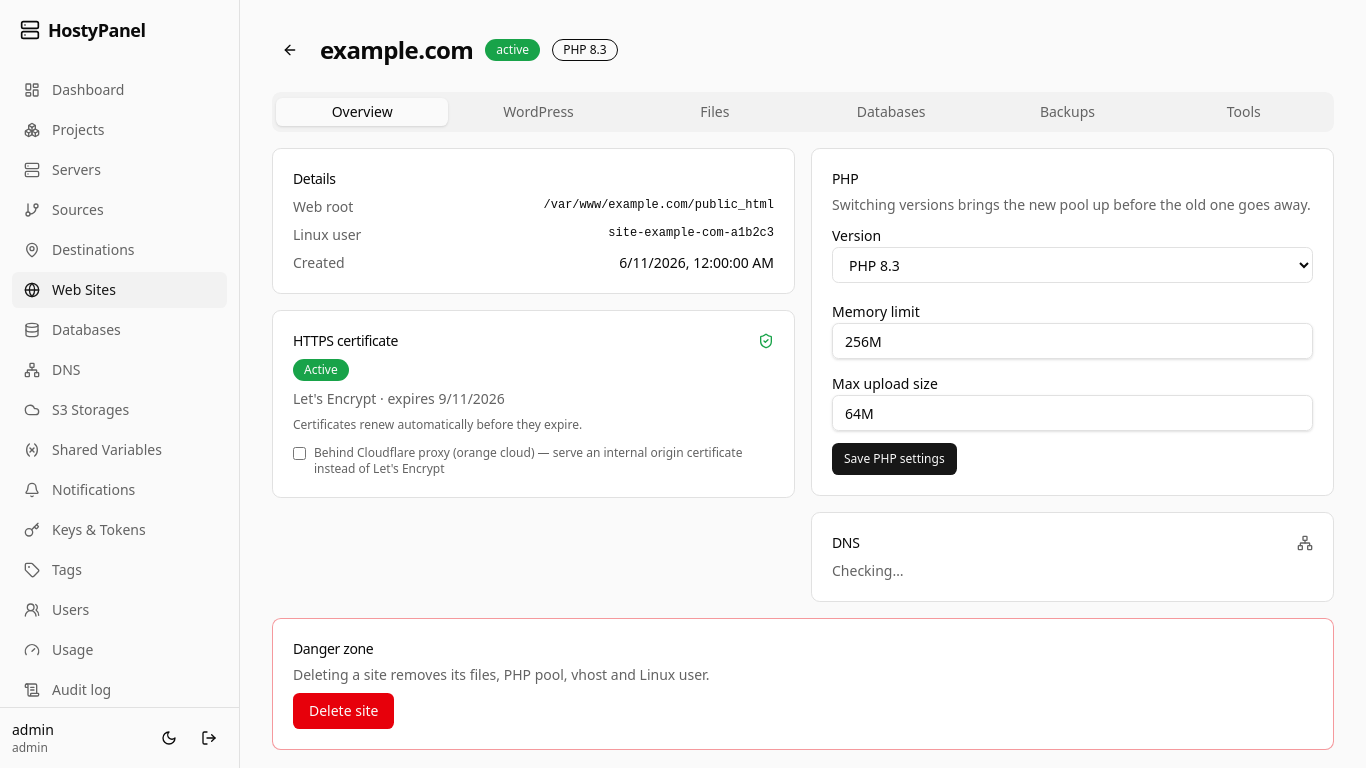
it: SiteBackupsTab › lists site backups and starts a backup from the site detail tab
This screenshot has width=1366, height=768.
Click the tab "Backups" at (1067, 112), box 981,98 -> 1154,126
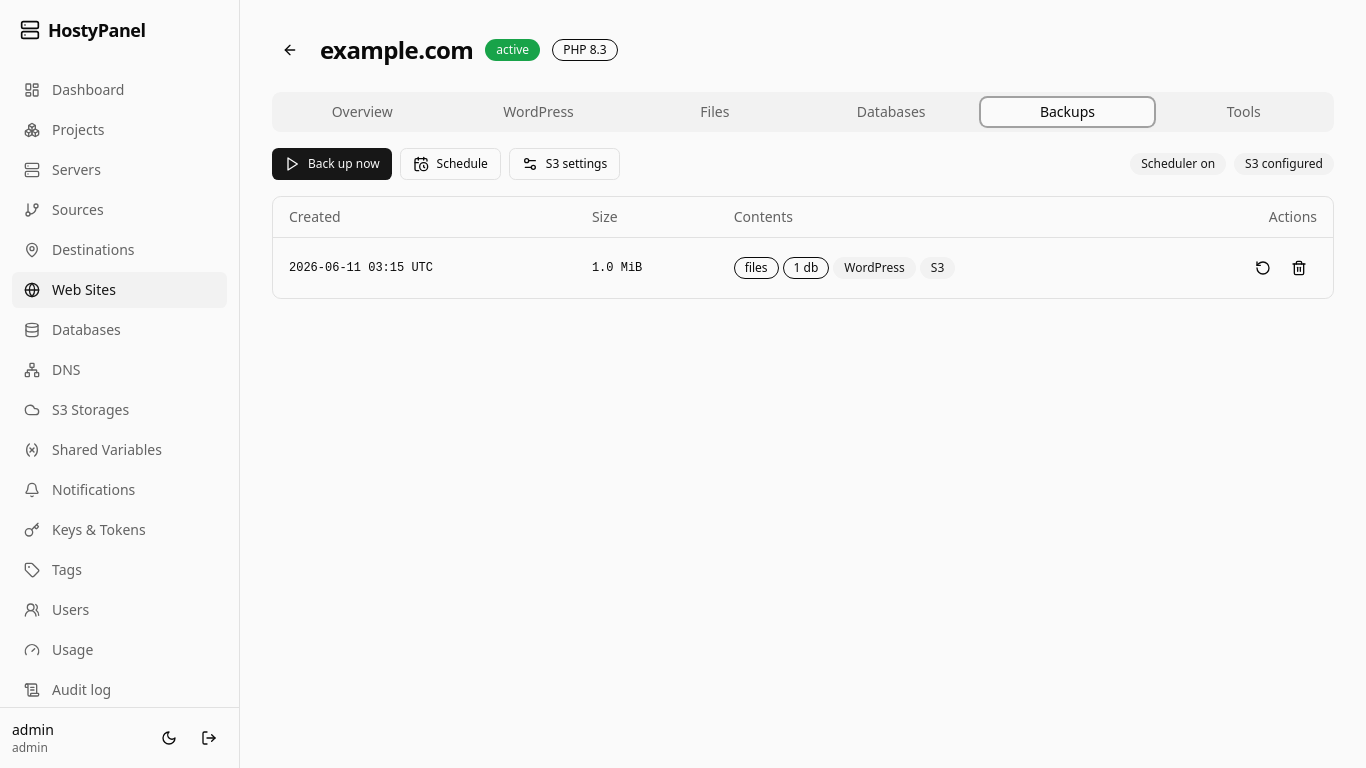
Check: the text "2026-06-11 03:15 UTC" is shown, box 273,237 -> 576,298
Check: the text "1.0 MiB" is shown, box 576,237 -> 718,298
Check: the text "S3 configured" is shown, box 1234,153 -> 1334,175
Click the button "Back up now" at (332, 164), box 272,148 -> 392,180
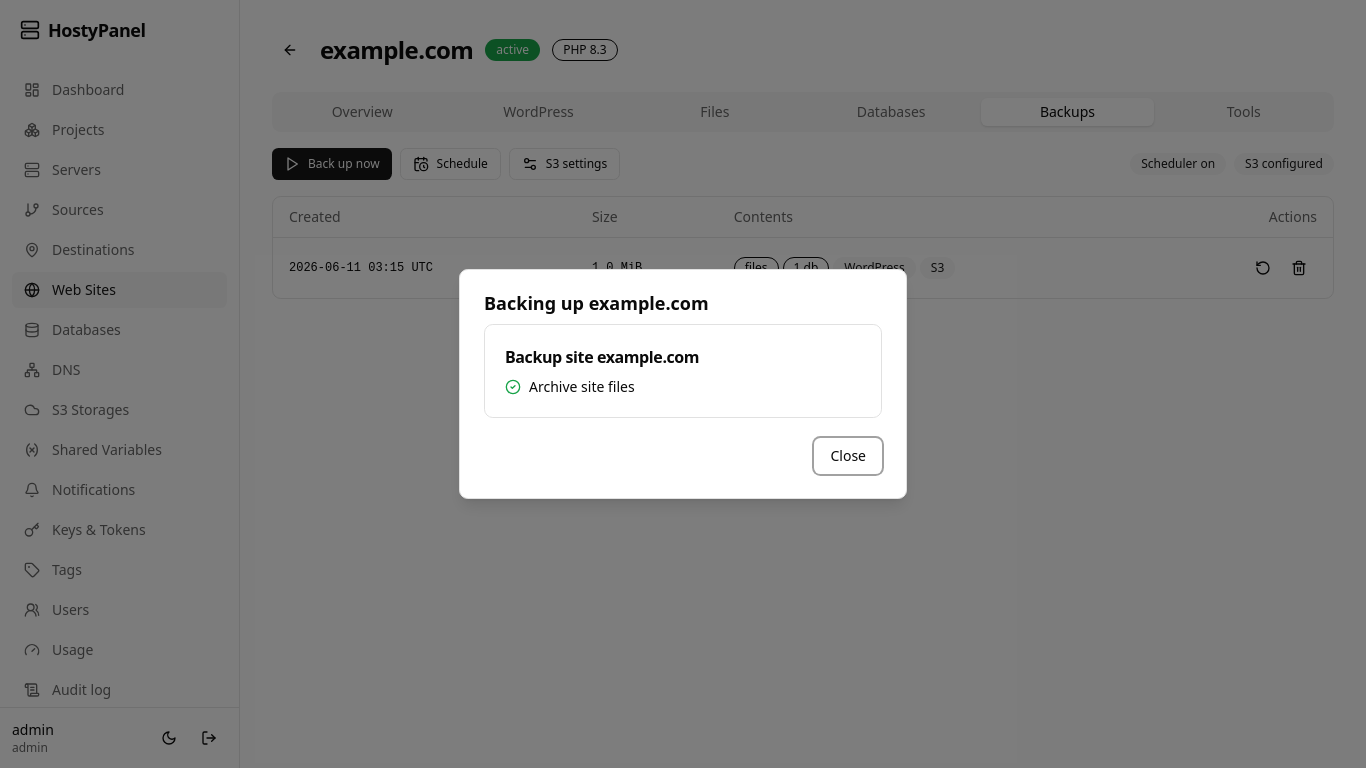
Check: the text "Archive site files" is shown, box 529,377 -> 635,397
